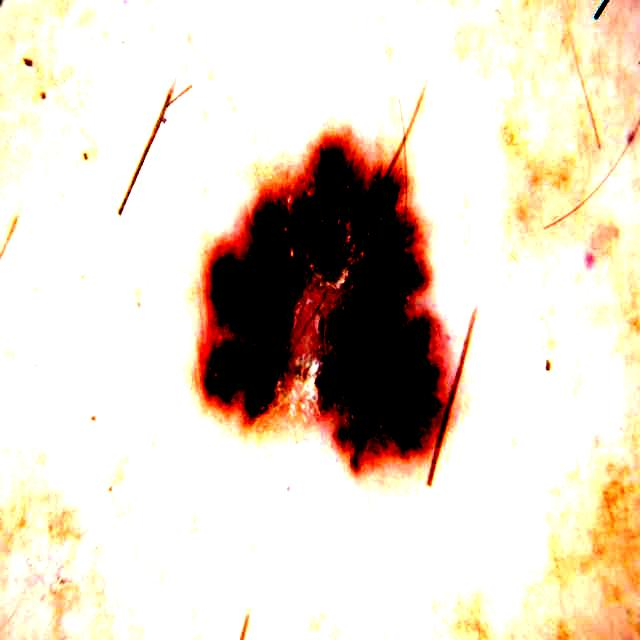AKIEC: (204, 141, 439, 467)
